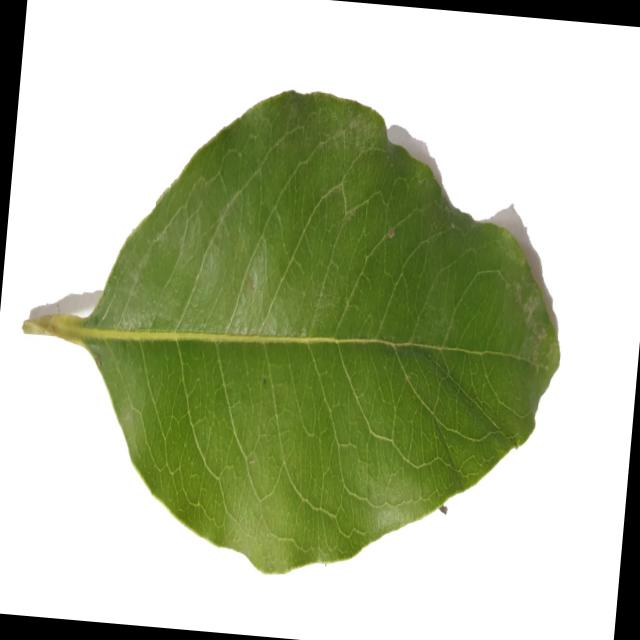Medicinal-Sandalwood: (2, 63, 582, 600)
